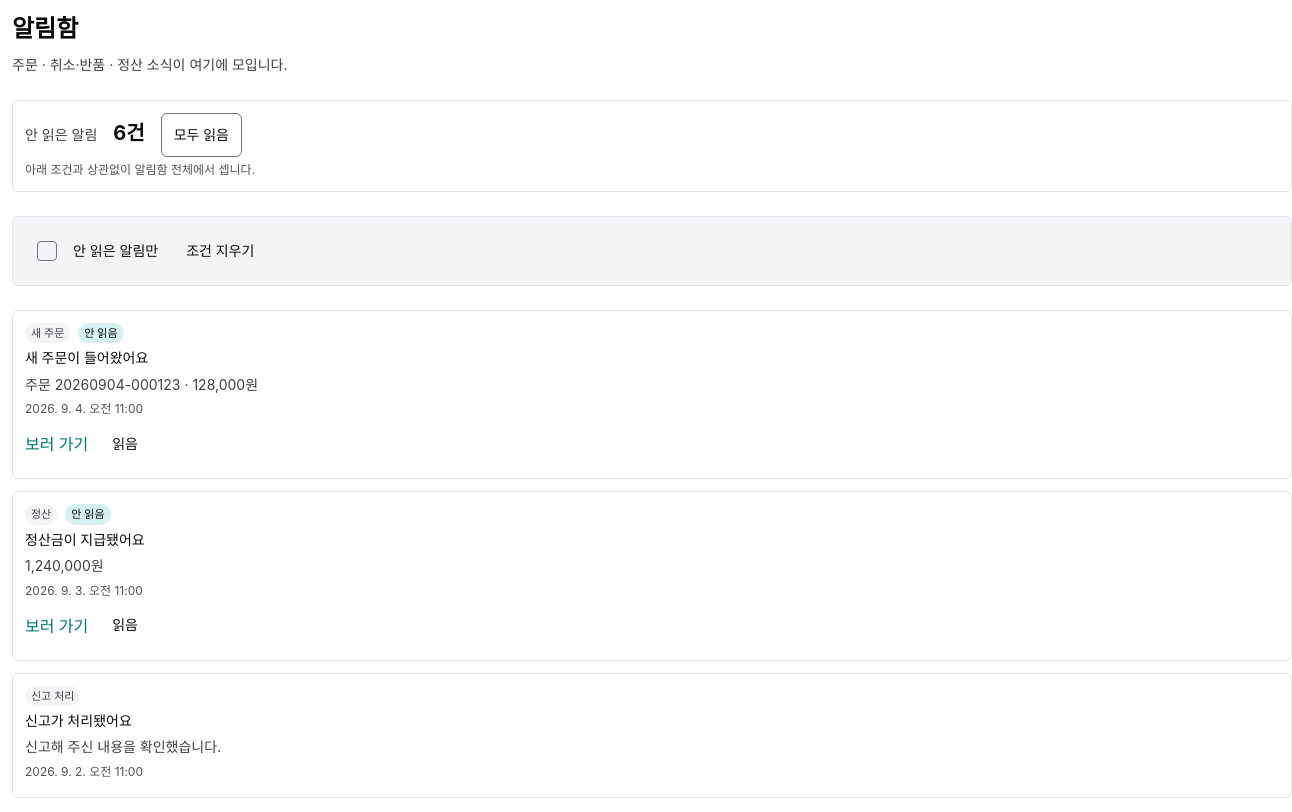
Test: the notification inbox › the filter › says "none like this" rather than "none at all" when it is on
Click the checkbox named "안 읽은 알림만" at (47, 251), box [25,229,69,273]
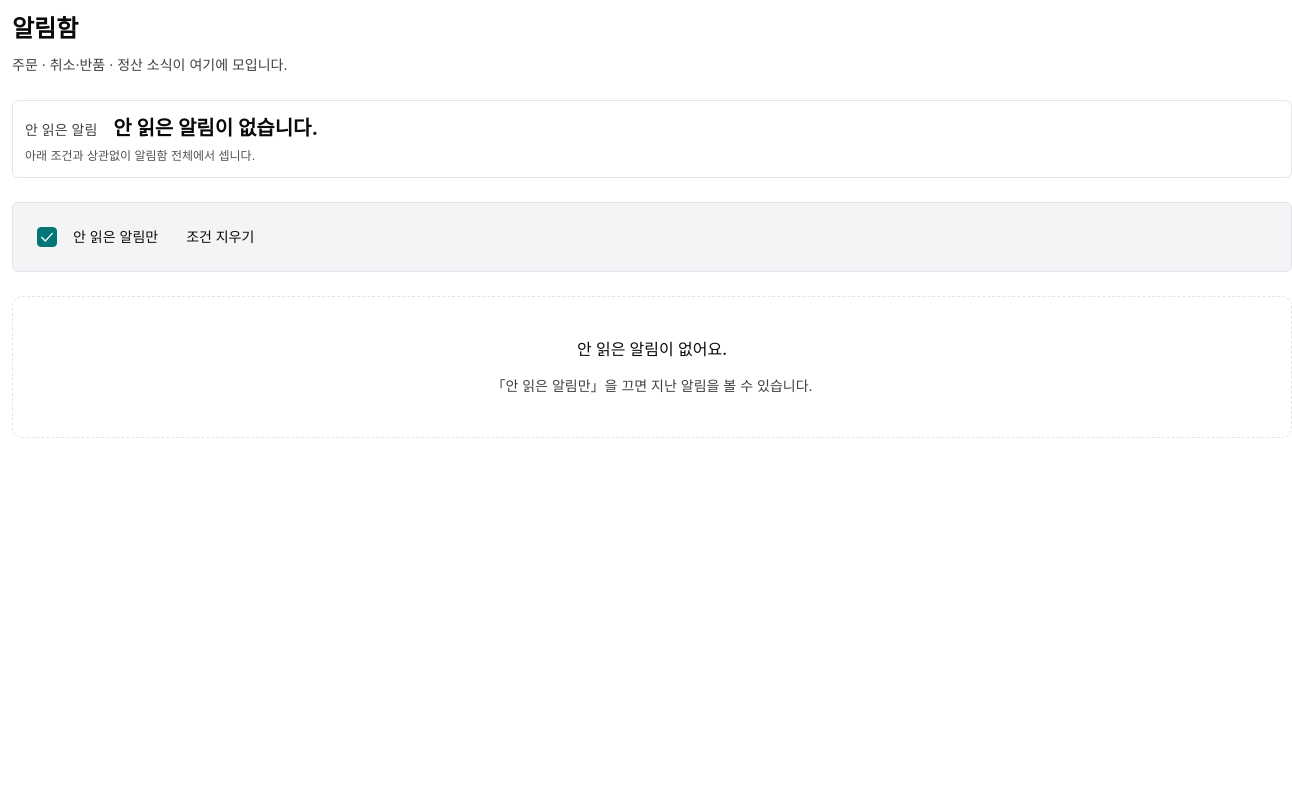
Now the text "안 읽은 알림이 없어요." is shown, box [577,337,727,363]
